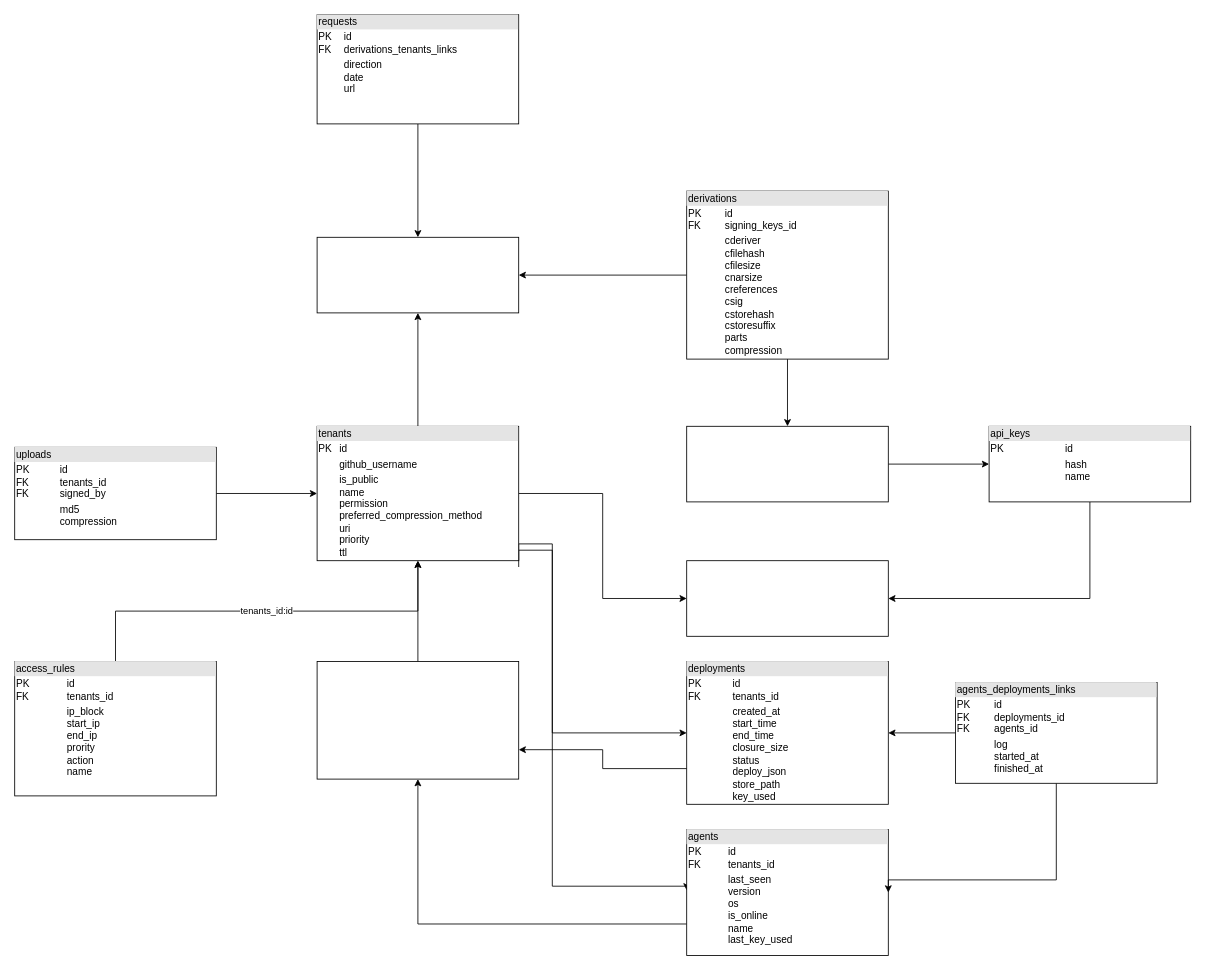
Some shapes in this 1205 by 970 pixel diagram are drawn without their labels. The shapes that lost their labels are listed below. From the top down, each one's centre as x and y in pixels, then its label:
[417,274]: derivations_tenants_links PK FK FK id tenants_id derivations_id
[787,463]: signing_keys PK FK id api_keys_id key name
[787,598]: api_keys_tenants_link PK FK FK id api_keys_id tenants_id
[417,720]: deployment_keys PK FK id tenants_id type hash expires_at created_at name
